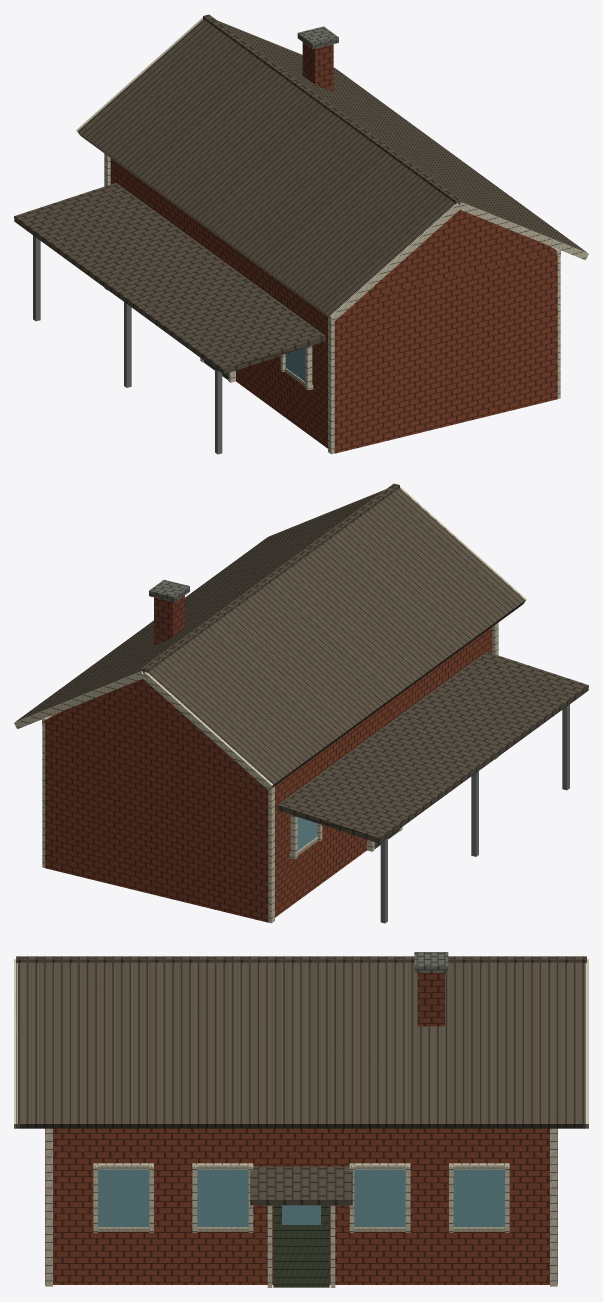
The model's file is arizona-station_lod1.glb.
3 views of the same model, one above another, from view 1: azimuth 30°, elevation 25°; view 2: azimuth 150°, elevation 25°; view 3: azimuth 270°, elevation 25° (orthographic). The views are drawn at different scales.
Visible parts, largest first — view 1: RF_Station_Roof-1, RF_Station_Body, RF_Station_Canopy, RF_Station_Roof1, RF_Station_Gable.001, RF_Station_Ridge, RF_Station_Vergeband.001, RF_Station_Chimney, RF_Station_Vergeband.003, RF_Station_Corner.001, RF_Station_Post, RF_Station_Post.001 (+3 smaller); view 2: RF_Station_Roof-1, RF_Station_Body, RF_Station_Canopy, RF_Station_Roof1, RF_Station_Gable, RF_Station_Ridge, RF_Station_Vergeband.002, RF_Station_Chimney, RF_Station_Vergeband, RF_Station_Corner.002, RF_Station_Post.001, RF_Station_Post.002 (+3 smaller); view 3: RF_Station_Roof1, RF_Station_Body, RF_Station_PublicAwning, RF_Station_Door, RF_Station_Ridge, RF_Station_Window.006, RF_Station_Window.007, RF_Station_Window.005, RF_Station_Window, RF_Station_Chimney, RF_Station_Corner.003, RF_Station_Corner (+6 smaller).
Part boxes in pixels (x1,y1,x2,y2): RF_Station_Roof-1: (78, 19, 454, 318); RF_Station_Body: (110, 158, 557, 453); RF_Station_Canopy: (14, 182, 325, 374); RF_Station_Roof1: (218, 21, 586, 252); RF_Station_Gable.001: (360, 210, 556, 298); RF_Station_Ridge: (203, 14, 462, 204); RF_Station_Vergeband.001: (329, 203, 461, 321); RF_Station_Chimney: (302, 42, 333, 91); RF_Station_Vergeband.003: (459, 202, 588, 260); RF_Station_Corner.001: (328, 317, 334, 454); RF_Station_Post: (33, 235, 40, 321); RF_Station_Post.001: (215, 368, 222, 454); RF_Station_Roof-1: (148, 488, 524, 787); RF_Station_Body: (45, 627, 492, 922); RF_Station_Canopy: (277, 651, 588, 843); RF_Station_Roof1: (16, 490, 384, 721); RF_Station_Gable: (43, 679, 246, 771); RF_Station_Ridge: (140, 483, 399, 673); RF_Station_Vergeband.002: (141, 672, 273, 790); RF_Station_Chimney: (154, 595, 184, 645); RF_Station_Vergeband: (14, 671, 143, 729); RF_Station_Corner.002: (268, 786, 274, 923); RF_Station_Post.001: (562, 704, 569, 790); RF_Station_Post.002: (471, 771, 478, 856); RF_Station_Roof1: (17, 962, 585, 1128); RF_Station_Body: (45, 1128, 557, 1284); RF_Station_PublicAwning: (250, 1166, 352, 1205); RF_Station_Door: (273, 1205, 329, 1287); RF_Station_Ridge: (16, 956, 586, 962); RF_Station_Window.006: (197, 1169, 248, 1226); RF_Station_Window.007: (354, 1169, 405, 1226); RF_Station_Window.005: (98, 1169, 149, 1226); RF_Station_Window: (453, 1169, 504, 1226); RF_Station_Chimney: (417, 972, 444, 1026); RF_Station_Corner.003: (45, 1128, 52, 1286); RF_Station_Corner: (550, 1128, 557, 1286).
Bounding box in the file's own units: 14.23 × 9.3 × 16.82.
Materials: 8 (6 with a texture image).
